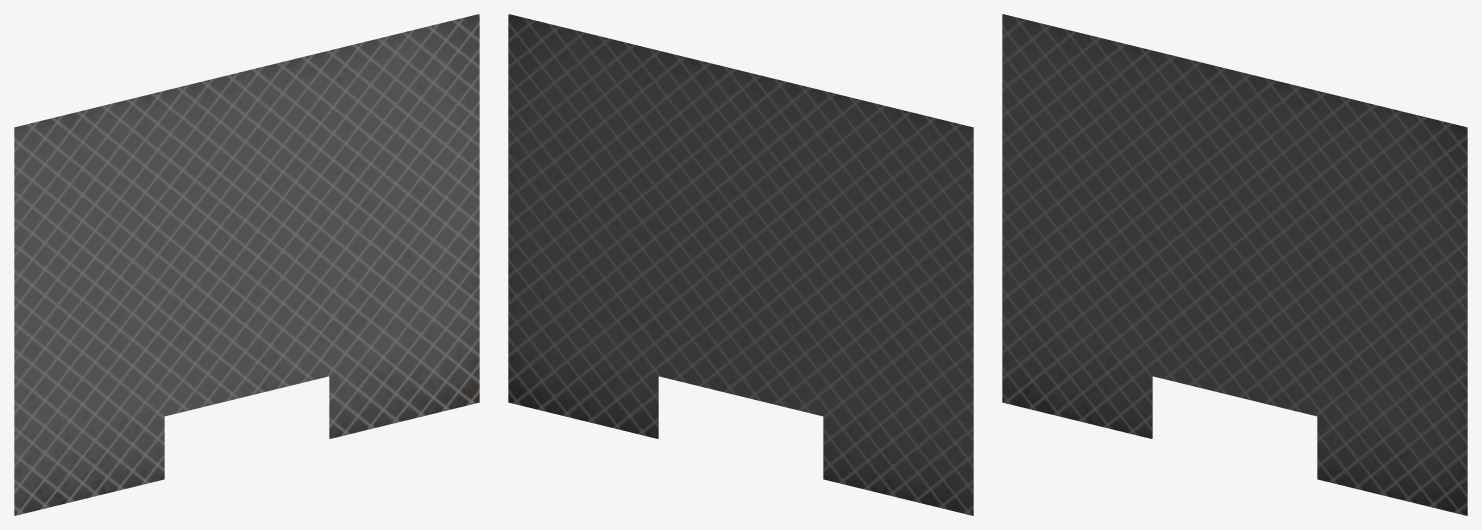
The model's file is SM_Guardbooth_Glass_A.fbx.
3 renders of one model, left to right at view 1: azimuth 30°, elevation 25°; view 2: azimuth 150°, elevation 25°; view 3: azimuth 330°, elevation 25°, orthographic.
Visible parts, largest first — view 1: SM_Guardbooth_Glass_A; view 2: SM_Guardbooth_Glass_A; view 3: SM_Guardbooth_Glass_A.
Part boxes in pixels (x1,y1,x2,y2): SM_Guardbooth_Glass_A: [14, 14, 479, 515]; SM_Guardbooth_Glass_A: [508, 14, 973, 515]; SM_Guardbooth_Glass_A: [1002, 14, 1467, 515].
Bounding box in the file's own units: 178 × 0.2642 × 142.
Materials: 1 (1 with a texture image).
